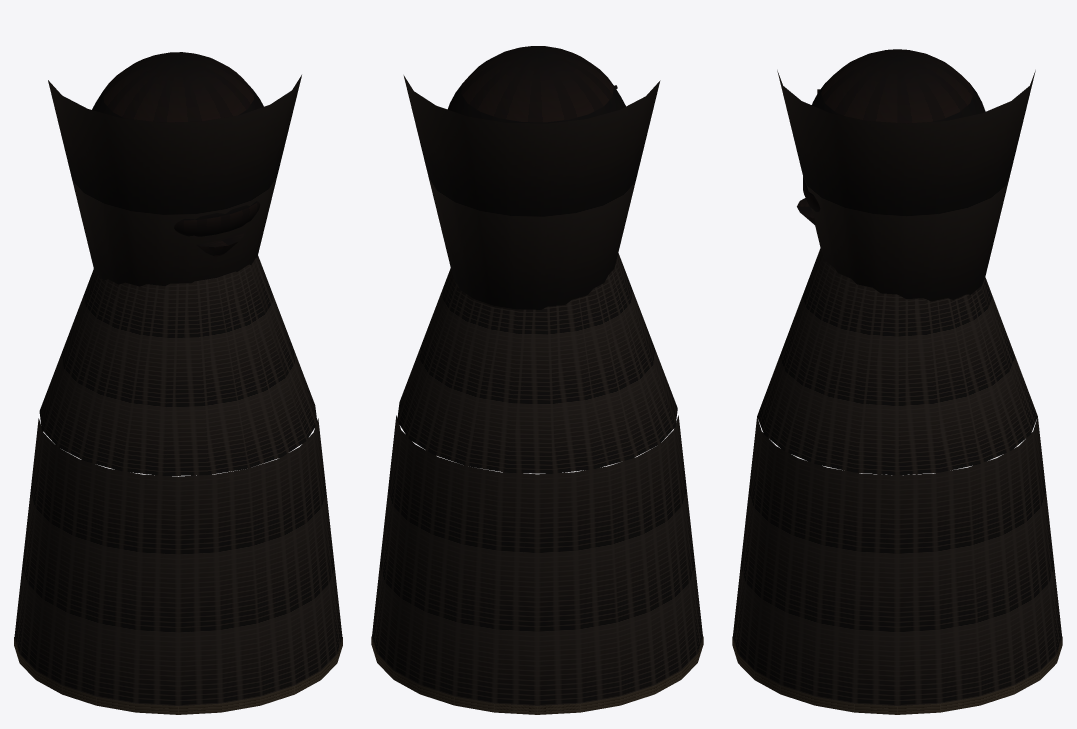
The model's file is market_informant.glb.
3 views of the same model, side by side, from view 1: azimuth 30°, elevation 25°; view 2: azimuth 150°, elevation 25°; view 3: azimuth 270°, elevation 25° (orthographic).
Visible parts, largest first — view 1: Character_market_informant; view 2: Character_market_informant; view 3: Character_market_informant.
Part boxes in pixels (bbox=[...]): Character_market_informant: bbox=[14, 52, 342, 714]; Character_market_informant: bbox=[371, 46, 703, 714]; Character_market_informant: bbox=[732, 49, 1062, 714].
Size of the model in its own units: 0.9174 by 1.8 by 0.9174.
9 materials, 5 textured.
